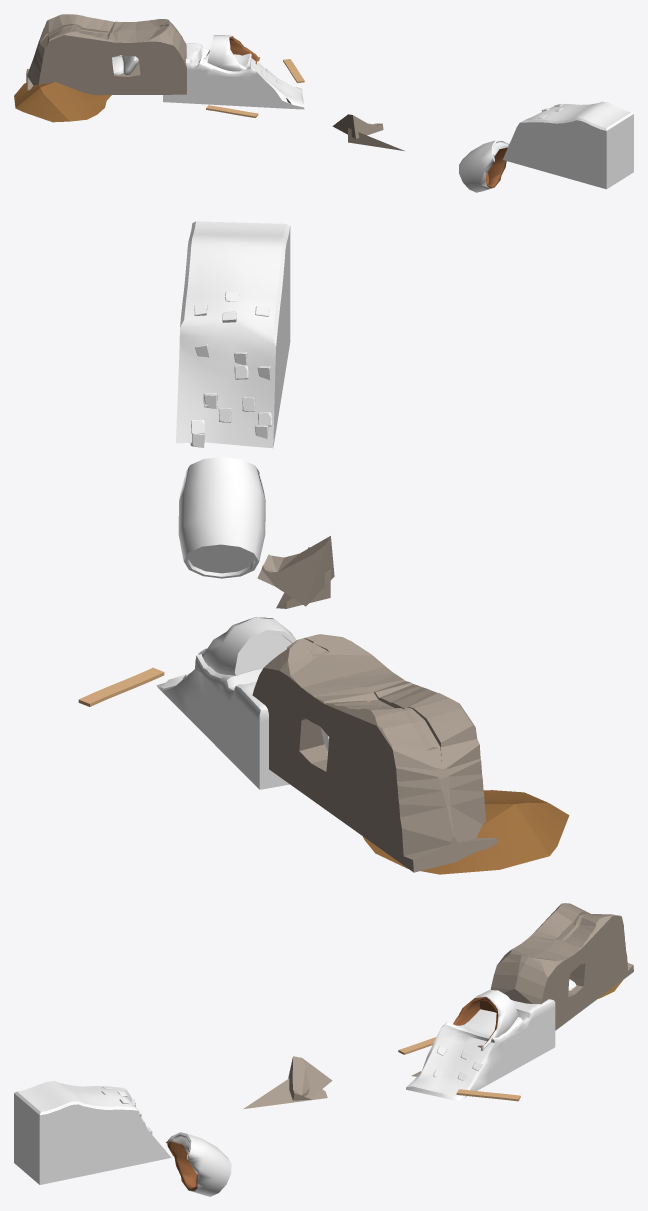
The model's file is damage_03.gltf.
3 views of the same model, one above another, from view 1: azimuth 30°, elevation 25°; view 2: azimuth 150°, elevation 25°; view 3: azimuth 270°, elevation 25° (orthographic). The views are drawn at different scales.
Parts seen in each view (by area): view 1: CSGBakedMeshInstance3D5, f2s_damaged_asset, c2c_damaged_r_asset, sm_dirt_cluster_022, CSGBakedMeshInstance3D2, CSGBakedMeshInstance3D3, CSGBakedMeshInstance3D4, CSGBakedMeshInstance3D, sm_plank; view 2: CSGBakedMeshInstance3D5, f2s_damaged_asset, CSGBakedMeshInstance3D2, c2c_damaged_r_asset, sm_dirt_cluster_022, CSGBakedMeshInstance3D3, CSGBakedMeshInstance3D4, sm_plank2; view 3: f2s_damaged_asset, CSGBakedMeshInstance3D5, c2c_damaged_r_asset, CSGBakedMeshInstance3D2, CSGBakedMeshInstance3D3, CSGBakedMeshInstance3D4, CSGBakedMeshInstance3D, sm_plank2.
Boxes of the visible parts, bbox=[...] form: CSGBakedMeshInstance3D5: bbox=[26, 14, 186, 95]; f2s_damaged_asset: bbox=[503, 101, 633, 189]; c2c_damaged_r_asset: bbox=[163, 43, 304, 109]; sm_dirt_cluster_022: bbox=[14, 82, 111, 122]; CSGBakedMeshInstance3D2: bbox=[459, 139, 509, 192]; CSGBakedMeshInstance3D3: bbox=[207, 35, 259, 71]; CSGBakedMeshInstance3D4: bbox=[286, 98, 383, 138]; CSGBakedMeshInstance3D: bbox=[348, 128, 404, 150]; sm_plank: bbox=[206, 105, 258, 117]; CSGBakedMeshInstance3D5: bbox=[252, 634, 497, 872]; f2s_damaged_asset: bbox=[176, 221, 290, 448]; CSGBakedMeshInstance3D2: bbox=[178, 457, 265, 578]; c2c_damaged_r_asset: bbox=[156, 654, 289, 789]; sm_dirt_cluster_022: bbox=[363, 790, 569, 874]; CSGBakedMeshInstance3D3: bbox=[198, 617, 296, 676]; CSGBakedMeshInstance3D4: bbox=[257, 536, 334, 606]; sm_plank2: bbox=[78, 667, 164, 706]; f2s_damaged_asset: bbox=[14, 1081, 171, 1184]; CSGBakedMeshInstance3D5: bbox=[490, 903, 633, 1030]; c2c_damaged_r_asset: bbox=[406, 999, 555, 1100]; CSGBakedMeshInstance3D2: bbox=[166, 1132, 231, 1196]; CSGBakedMeshInstance3D3: bbox=[453, 990, 518, 1050]; CSGBakedMeshInstance3D4: bbox=[288, 1056, 421, 1100]; CSGBakedMeshInstance3D: bbox=[243, 1078, 327, 1108]; sm_plank2: bbox=[456, 1089, 520, 1101].
Bounding box in the file's own units: 13.14 × 3.6 × 14.81.
